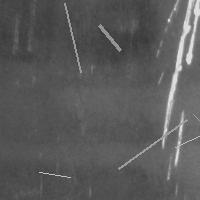scratches: (158, 1, 199, 147), (114, 114, 192, 173), (59, 0, 85, 77), (170, 101, 200, 152), (169, 107, 189, 170), (94, 20, 125, 55), (188, 109, 200, 170), (34, 167, 75, 182)
